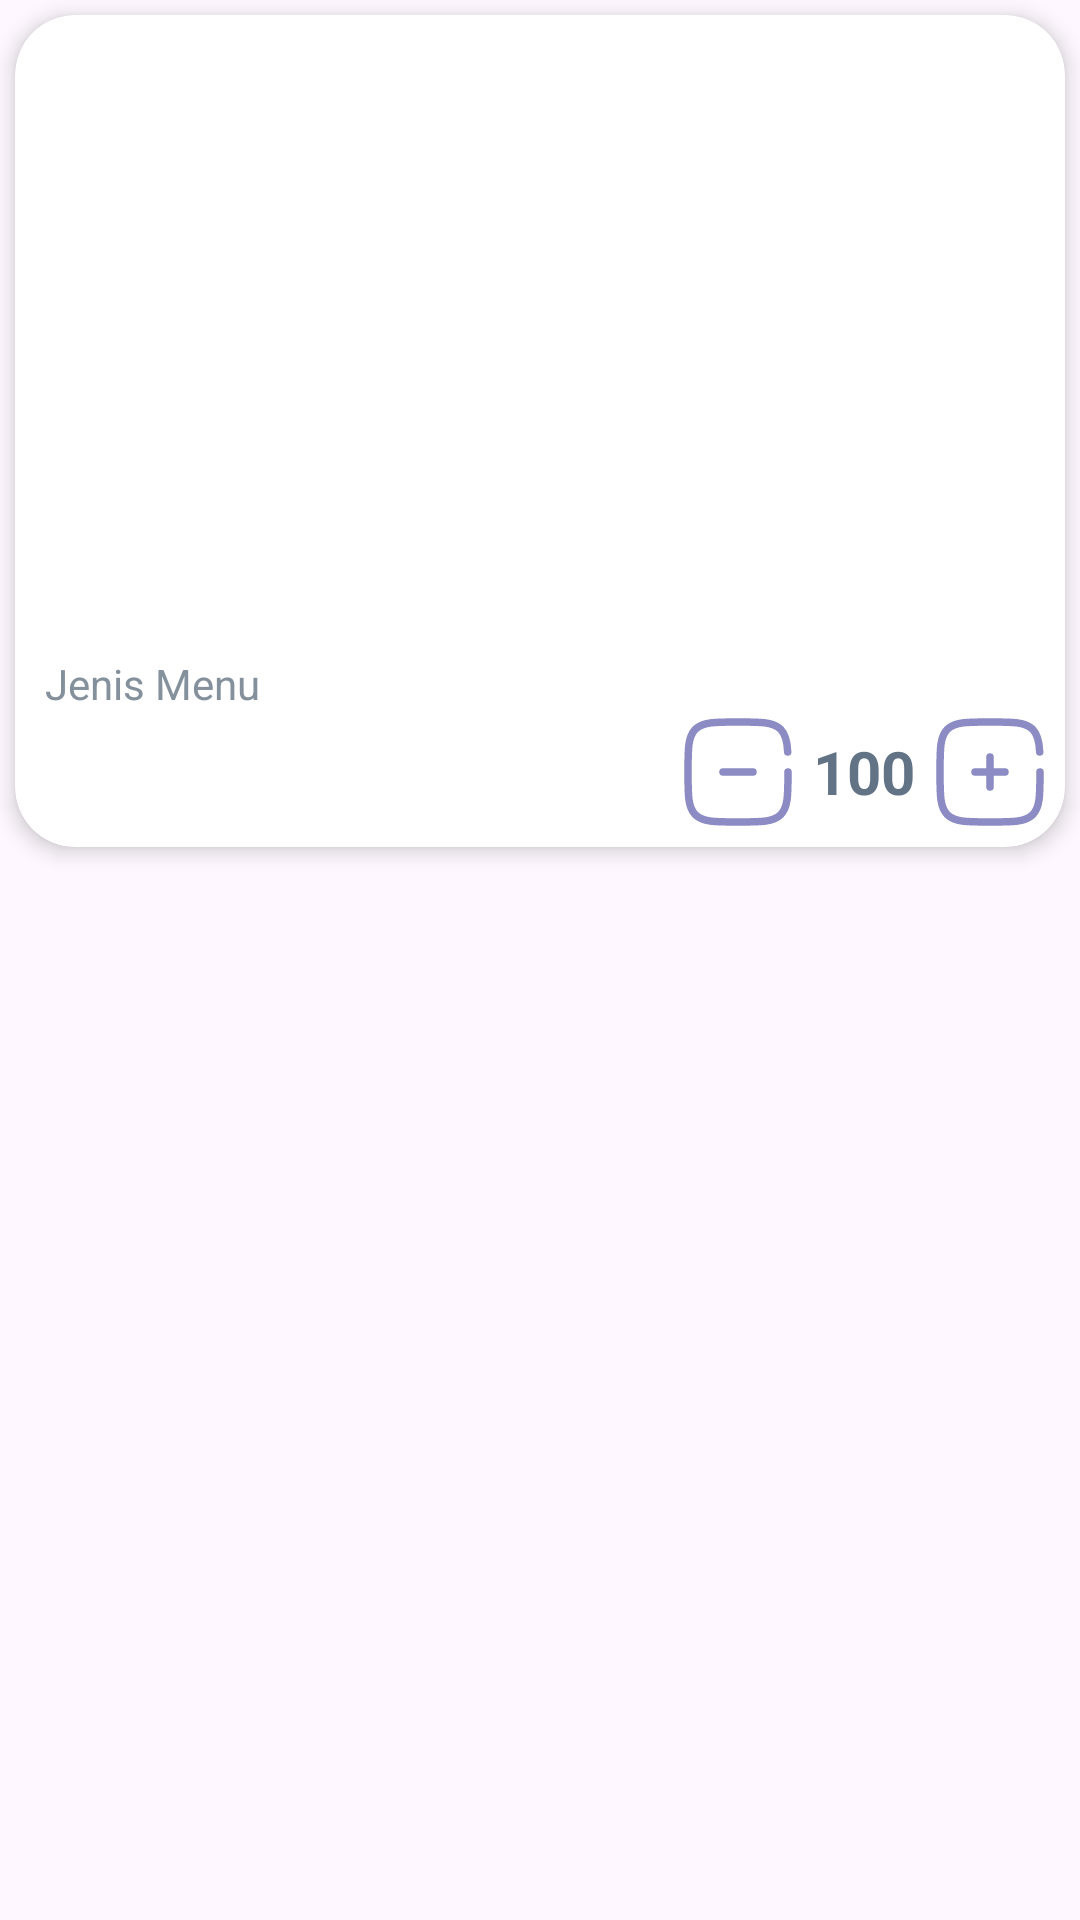

Named icons in this screenshot (1080×1920) and their centers, (x,y):
minus: (738,772)
plus: (990,772)
